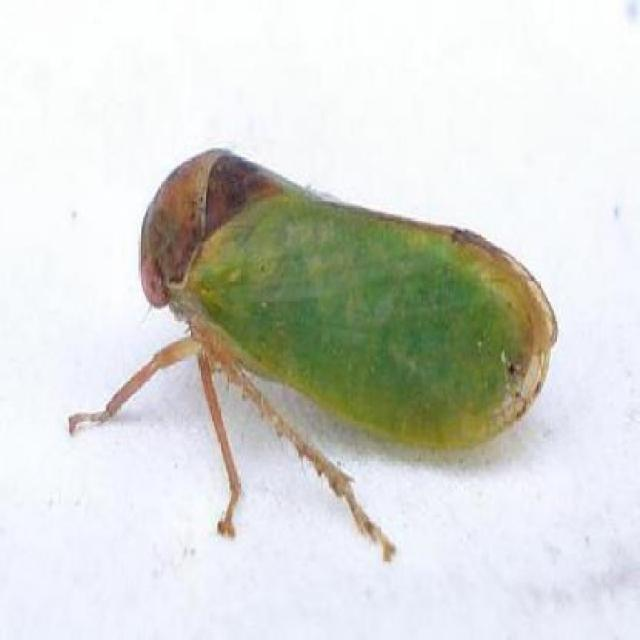green-leafhopper: (132, 150, 550, 458)
